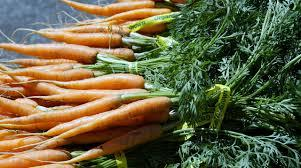Organic: (4, 2, 301, 168)
